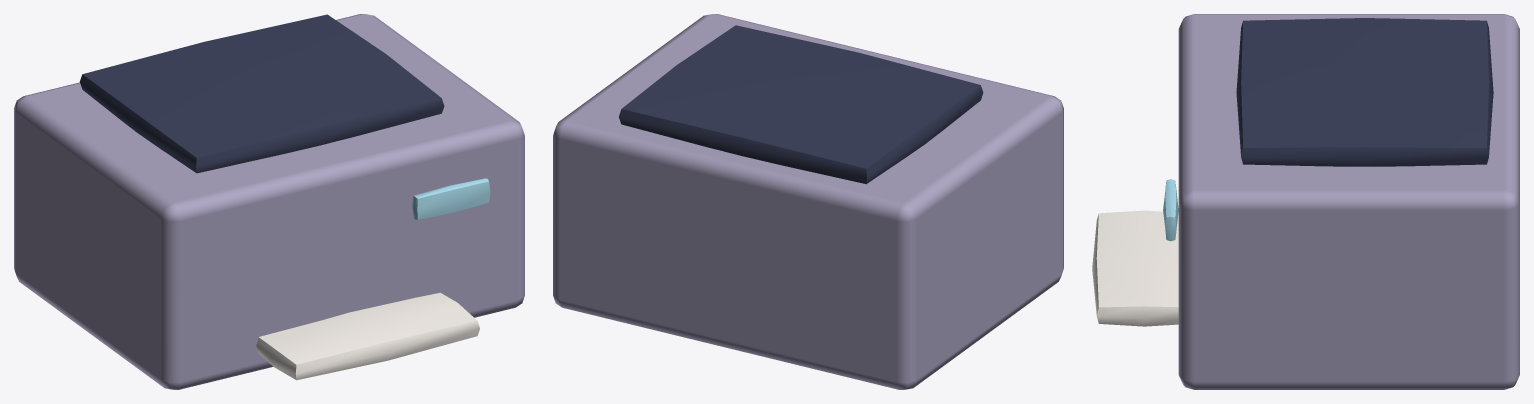
The model's file is printer.glb.
The picture shows the model from 3 angles, left to right: view 1: azimuth 30°, elevation 25°; view 2: azimuth 150°, elevation 25°; view 3: azimuth 270°, elevation 25°; orthographic projection. The views are drawn at different scales.
Parts seen in each view (by area): view 1: part (×4); view 2: part (×2); view 3: part (×4).
Boxes of the visible parts, bbox=[...] form: part (×4): bbox=[14, 14, 524, 389]; part (×2): bbox=[553, 14, 1063, 389]; part (×4): bbox=[1092, 14, 1519, 389].
Bounding box in the file's own units: 0.85 × 0.47 × 0.815.
Materials: 1 (1 with a texture image).
